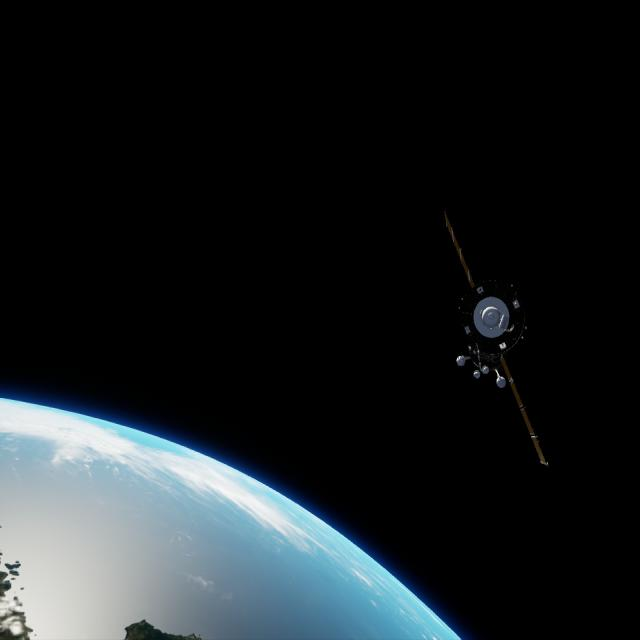Satellites revolving around earth: (441, 208, 551, 470)
